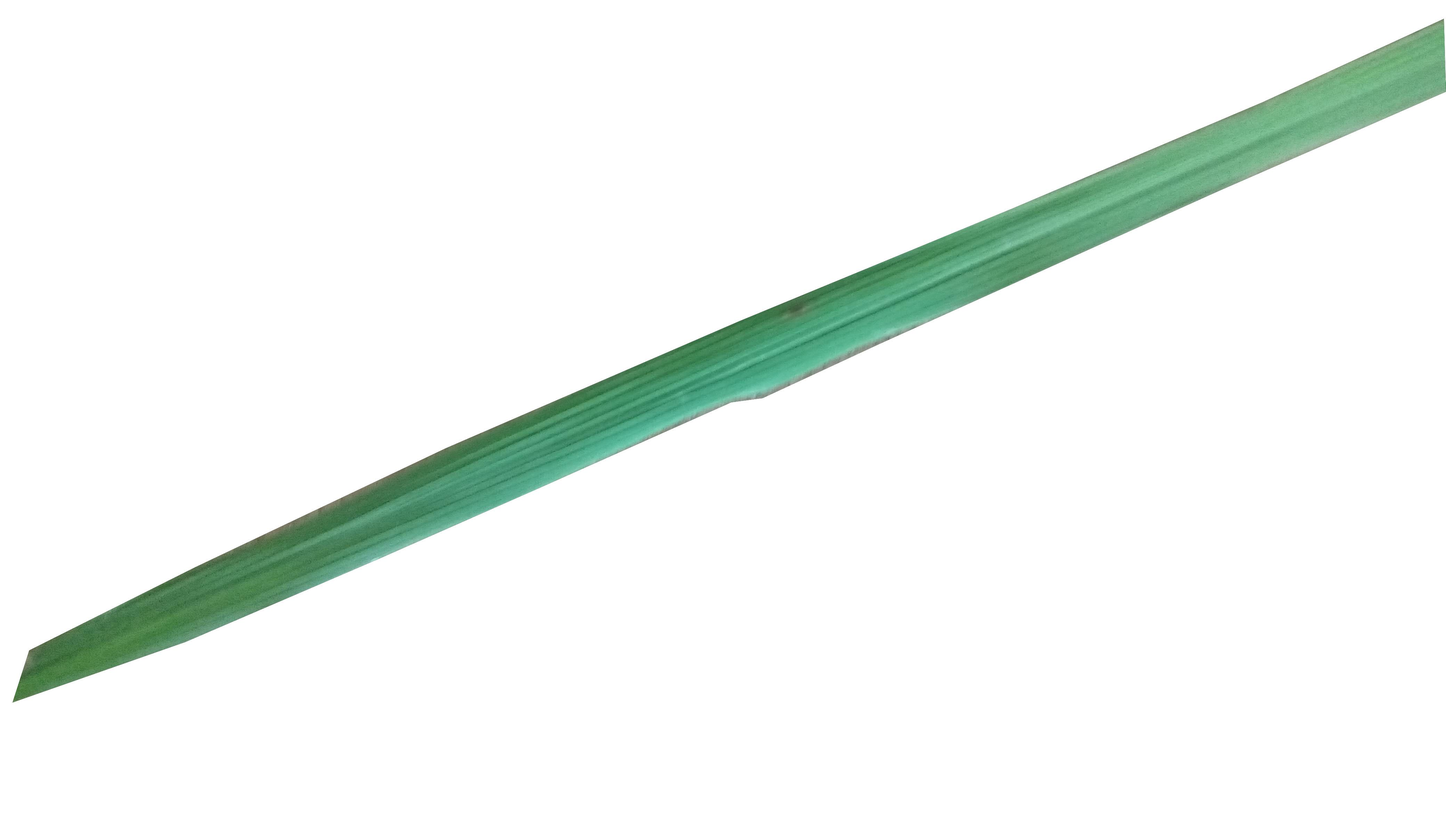Brown spot: (787, 305, 809, 316)
